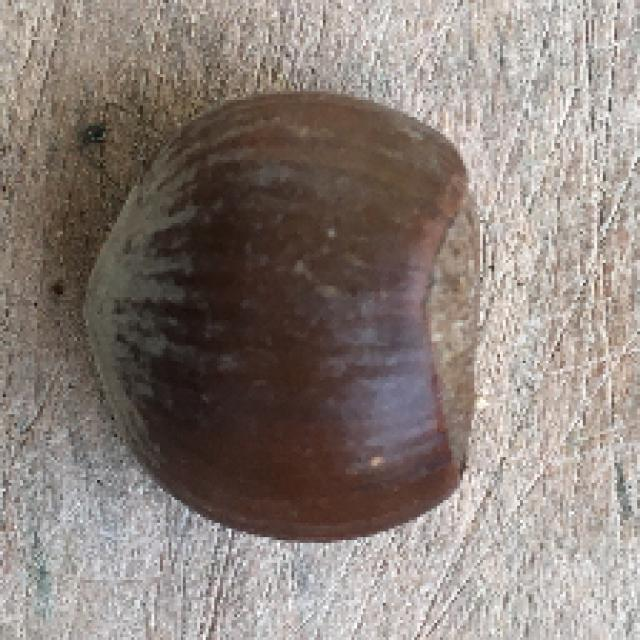damagedHazelnut: (81, 77, 487, 552)
